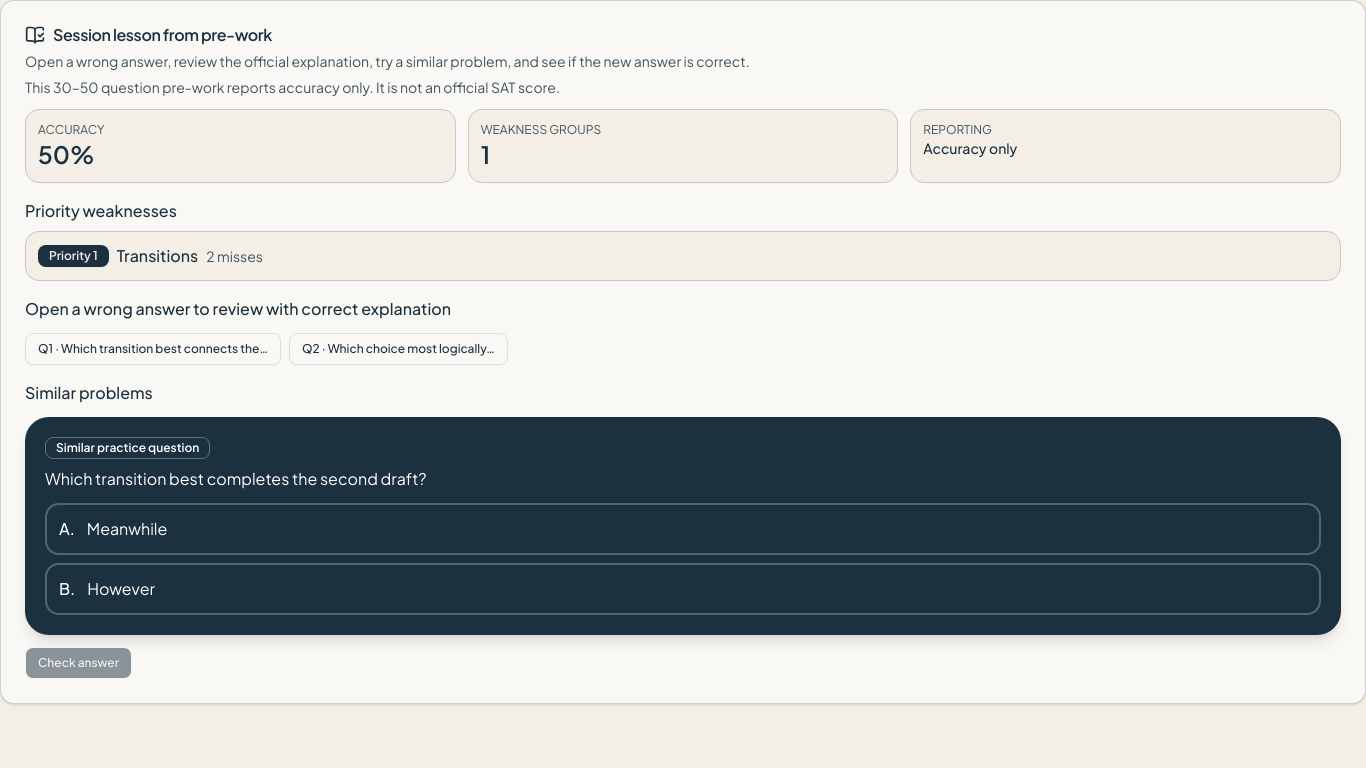
Test: session lesson dashboard › checking a similar problem shows Incorrect with the correct answer
Click the button with test id "retry-choice-retry-1-a" at (127, 528), box [45, 503, 1321, 555]
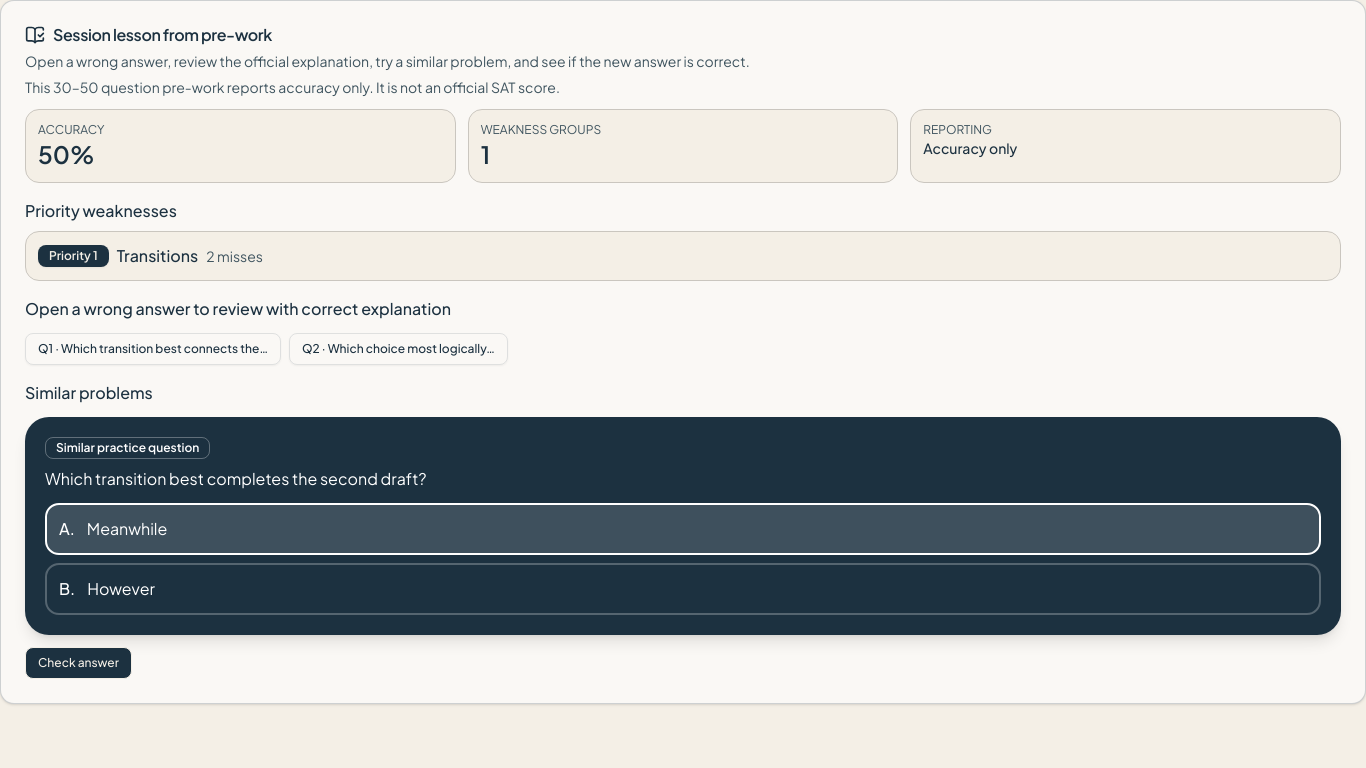
Click the button with test id "record-retry-outcome" at (78, 663), box [25, 647, 132, 679]
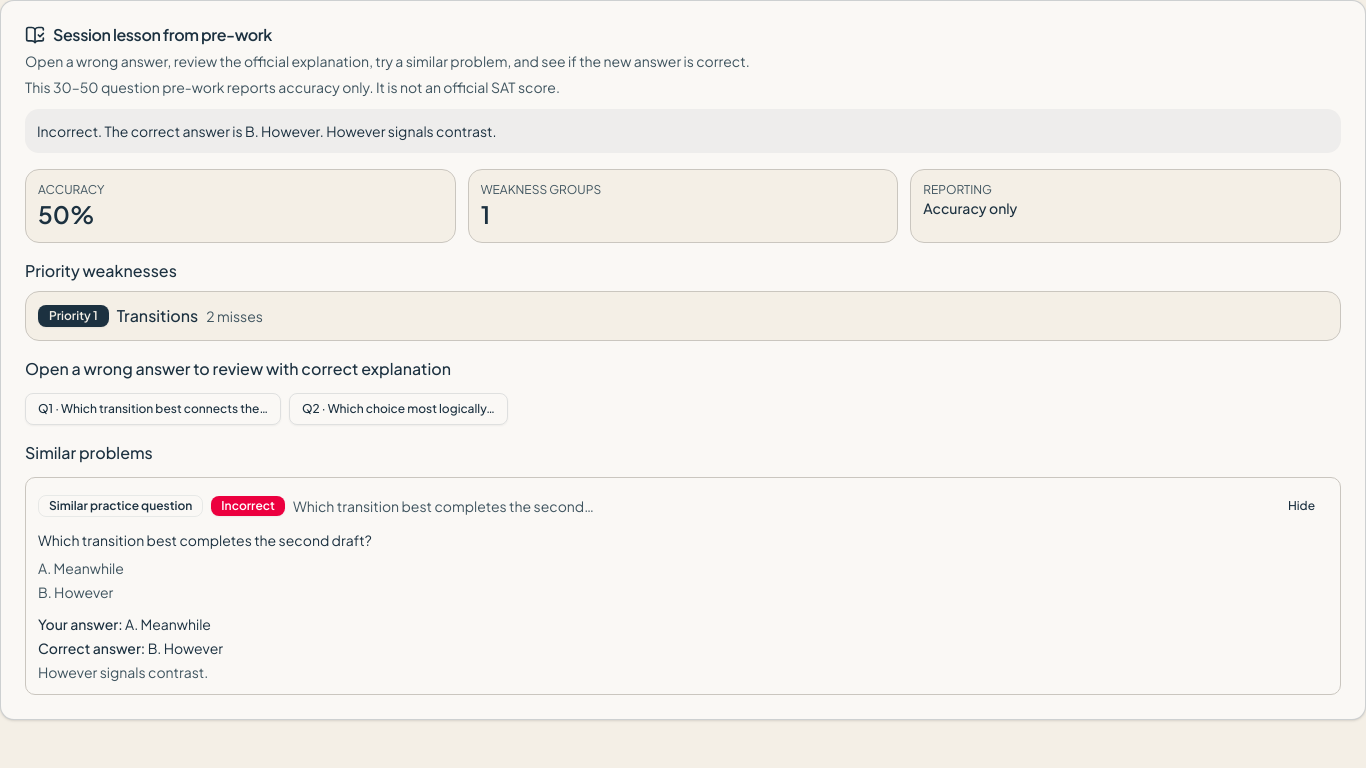
Expected: the message shows "Incorrect.", [37, 122, 496, 140]
Expected: the message shows "B. However", [37, 122, 496, 140]
Expected: the text with test id "retry-outcome-retry-1" reads "Incorrect", [221, 498, 275, 513]
